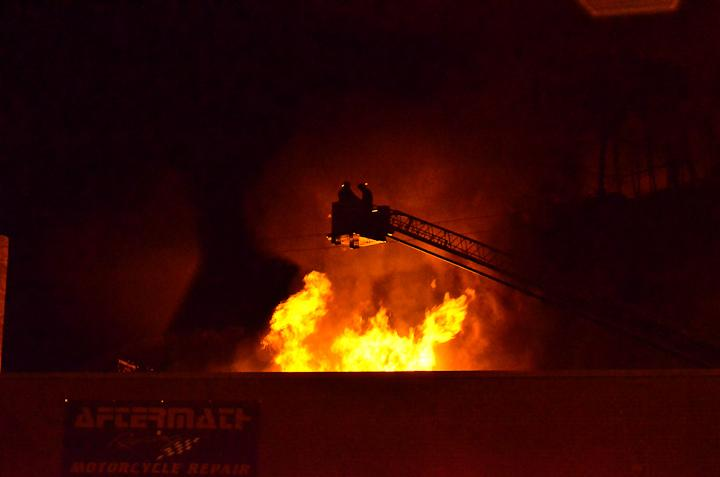fire: (340, 324, 419, 370), (278, 280, 316, 364), (425, 299, 459, 340)
